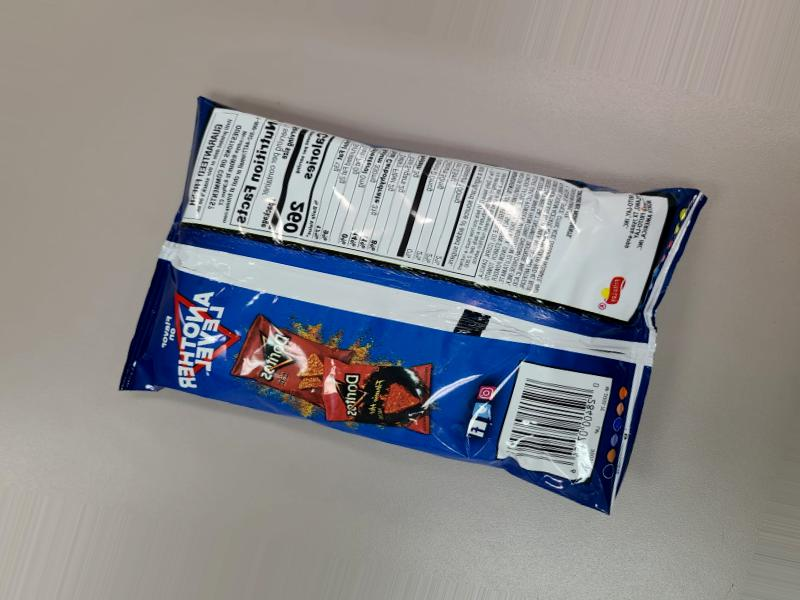doritos: (156, 89, 731, 510)
